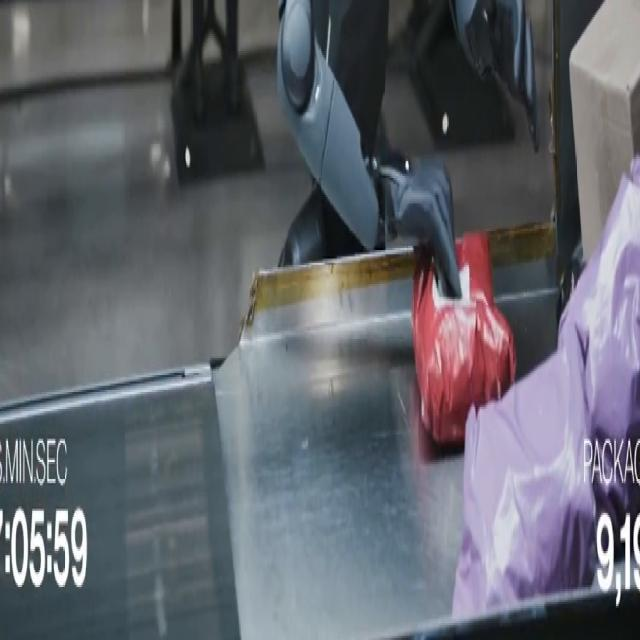package: (453, 162, 639, 616), (413, 234, 515, 447), (570, 0, 639, 258)
